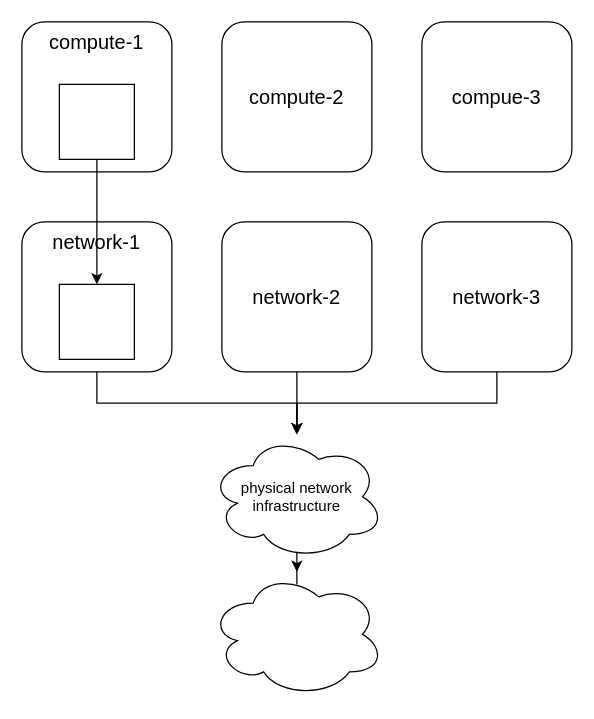
Image size: 594x719. Some labels were removed from this diagram. The shapes that lost their labels are listed below. From the top down, each one's centre as x and y in pixels, then its label:
At point (96, 121): "VM-1".
At point (96, 321): "Router".
At point (296, 634): "Internet".
